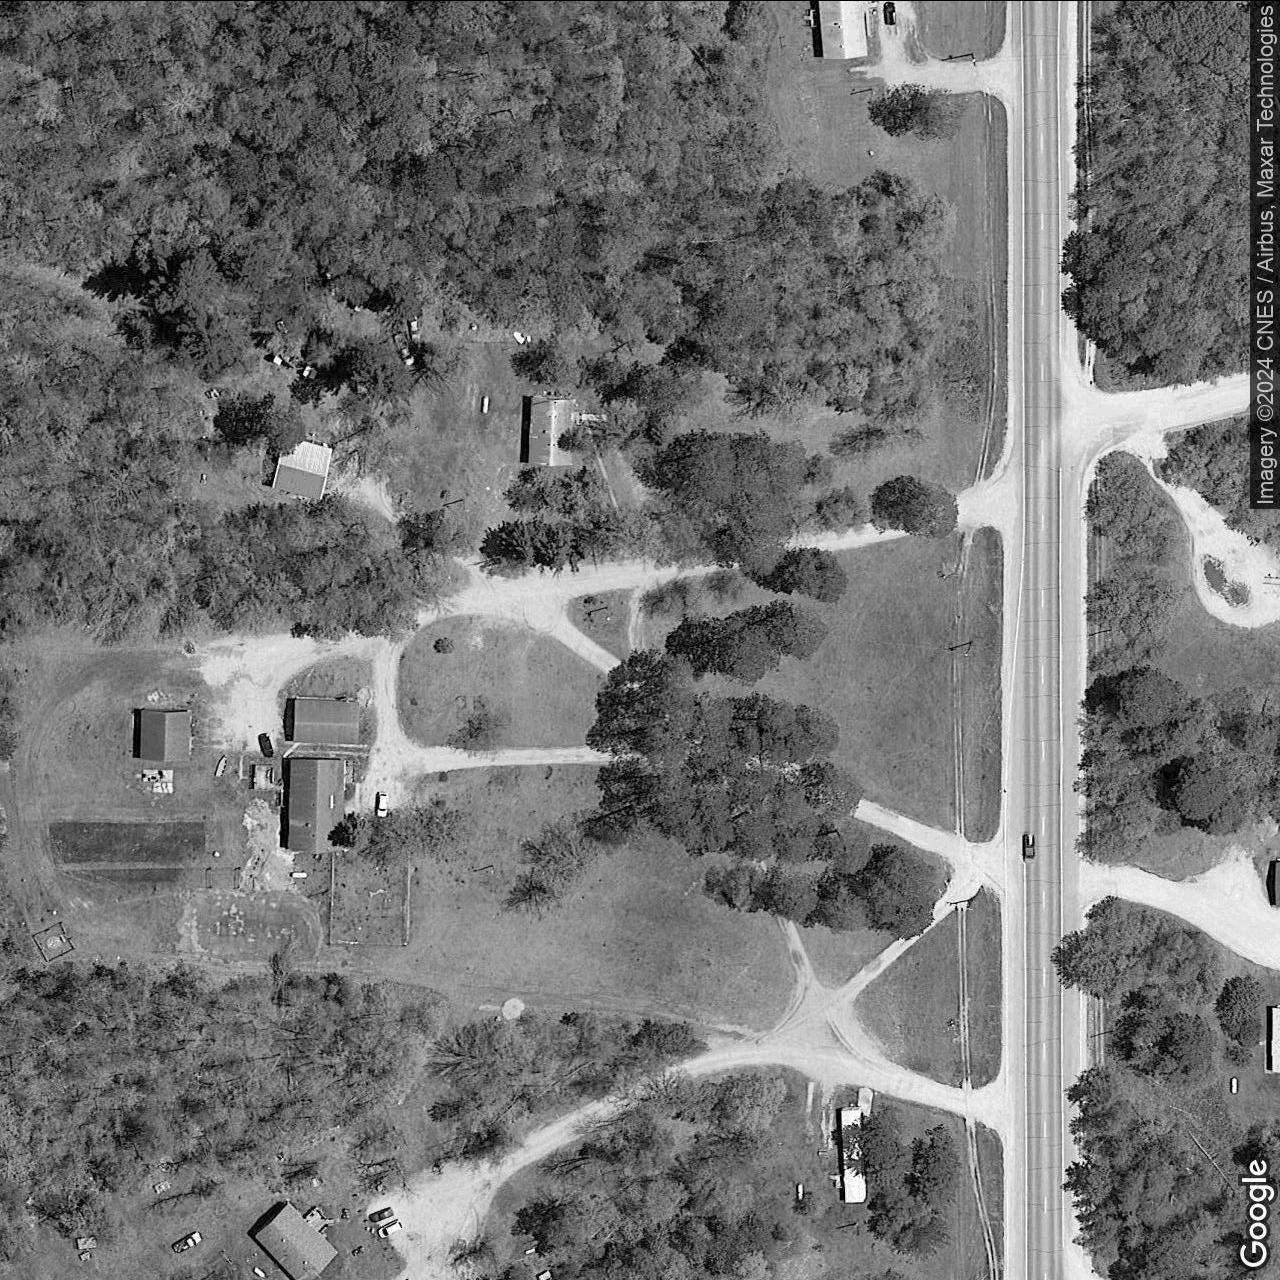Garage: (270, 435, 334, 502), (292, 696, 361, 747), (139, 706, 192, 763)
House: (253, 1199, 340, 1280), (287, 756, 347, 856), (526, 392, 578, 469), (817, 0, 870, 61), (1272, 1005, 1279, 1074), (1274, 859, 1280, 907)
Propane: (478, 393, 490, 415), (794, 1182, 805, 1201), (251, 1265, 267, 1279), (1228, 1074, 1239, 1095), (287, 870, 309, 879), (522, 1245, 538, 1257)
Trailer: (839, 1103, 869, 1204)
